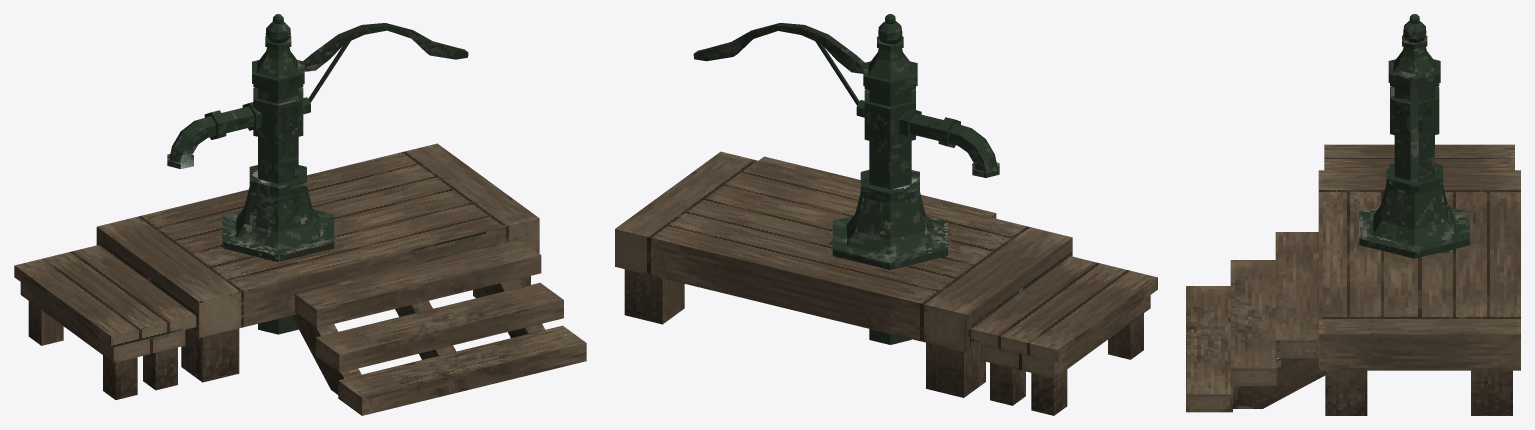
File: waterpump.green.glb
The picture shows the model from 3 angles, left to right: view 1: azimuth 30°, elevation 25°; view 2: azimuth 150°, elevation 25°; view 3: azimuth 270°, elevation 25°; orthographic projection. The views are drawn at different scales.
Visible parts, largest first — view 1: Base; view 2: Base; view 3: Base.
Part boxes in pixels (x1=…): Base: x1=14, y1=14, x2=586, y2=415; Base: x1=615, y1=14, x2=1157, y2=415; Base: x1=1186, y1=14, x2=1520, y2=415.
Size of the model in its own units: 2.31 by 1.62 by 1.59.
Materials: 1 (1 with a texture image).
